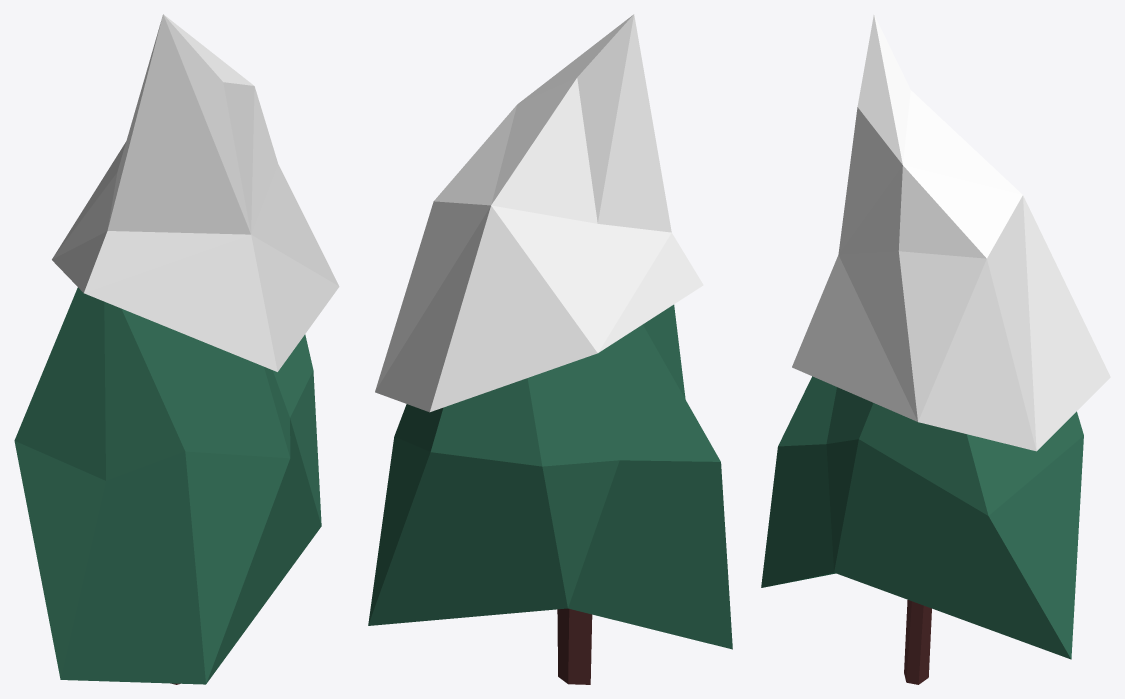
File: TreeWinter9_Alt4.fbx
3 views of the same model, side by side, from view 1: azimuth 30°, elevation 25°; view 2: azimuth 150°, elevation 25°; view 3: azimuth 270°, elevation 25° (orthographic). The views are drawn at different scales.
Parts seen in each view (by area): view 1: TreeWinter9_Alt4; view 2: TreeWinter9_Alt4; view 3: TreeWinter9_Alt4.
Boxes of the visible parts, x1,y1,x2,y2 form: TreeWinter9_Alt4: (14,14,339,684); TreeWinter9_Alt4: (368,14,732,684); TreeWinter9_Alt4: (761,14,1110,684).
Size of the model in its own units: 1.47 by 3.03 by 1.49.
